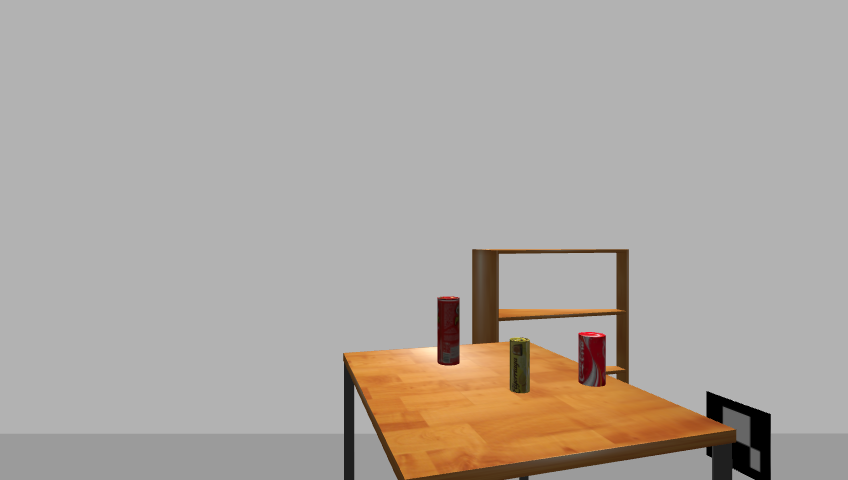aruco marker: (700, 390, 777, 479)
biscuits pack: (508, 337, 531, 395)
bookshelf: (466, 245, 636, 412)
coke can: (576, 331, 607, 388)
dinner table: (337, 343, 745, 479)
pringles can: (435, 295, 462, 367)
